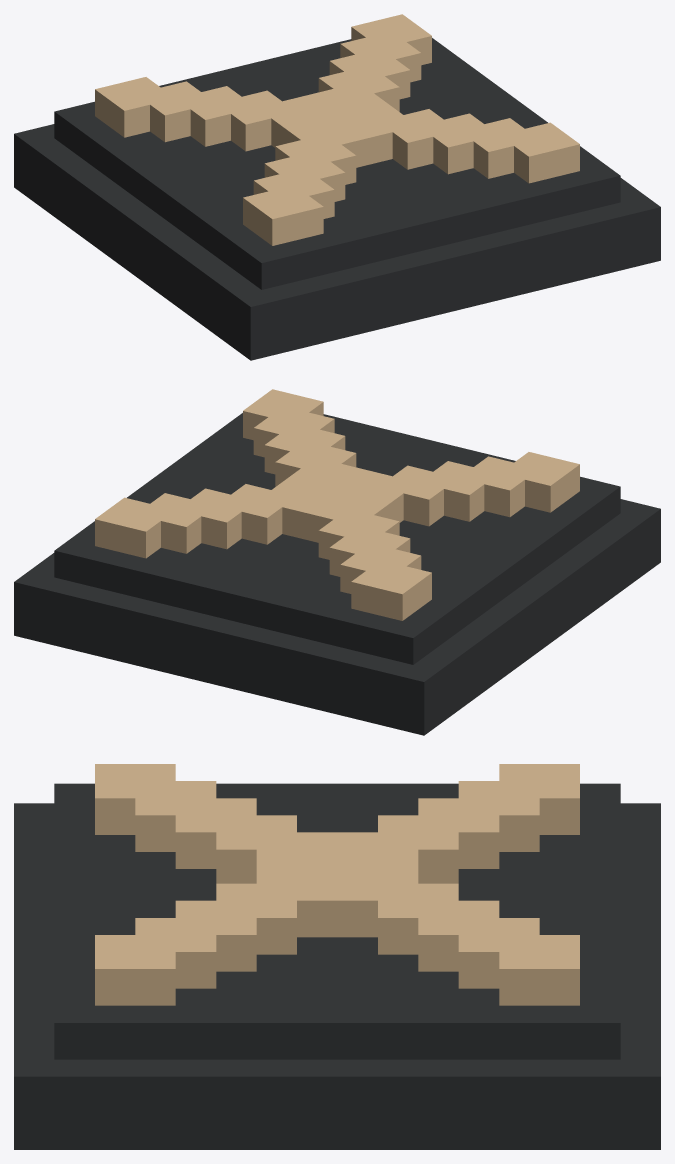
Rendered from x-v2-black-tan.gltf.
3 views of the same model, one above another, from view 1: azimuth 30°, elevation 25°; view 2: azimuth 150°, elevation 25°; view 3: azimuth 270°, elevation 25° (orthographic). The views are drawn at different scales.
Visible parts, largest first — view 1: Untitled; view 2: Untitled; view 3: Untitled.
Boxes of the visible parts, <box> form: Untitled: <box>14,14,660,360</box>; Untitled: <box>14,389,660,735</box>; Untitled: <box>14,764,660,1149</box>.
Bounding box in the file's own units: 1.6 × 0.4 × 1.6.
1 material, 1 textured.
